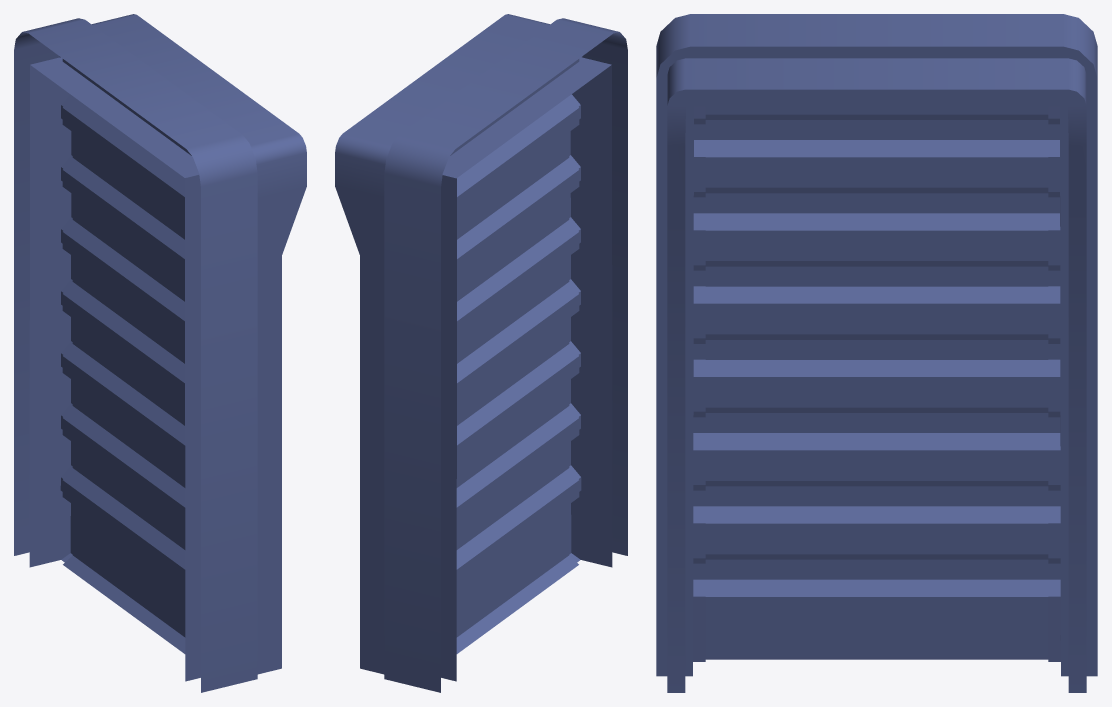
The model's file is sm_porta_01.fbx.
The picture shows the model from 3 angles, left to right: view 1: azimuth 30°, elevation 25°; view 2: azimuth 150°, elevation 25°; view 3: azimuth 270°, elevation 25°; orthographic projection. The views are drawn at different scales.
Parts seen in each view (by area): view 1: sm_porta_01; view 2: sm_porta_01; view 3: sm_porta_01.
Boxes of the visible parts, x1=… form: sm_porta_01: x1=14, y1=14, x2=306, y2=692; sm_porta_01: x1=335, y1=14, x2=627, y2=692; sm_porta_01: x1=656, y1=14, x2=1097, y2=692.
Bounding box in the file's own units: 0.5117 × 2.35 × 1.5.
